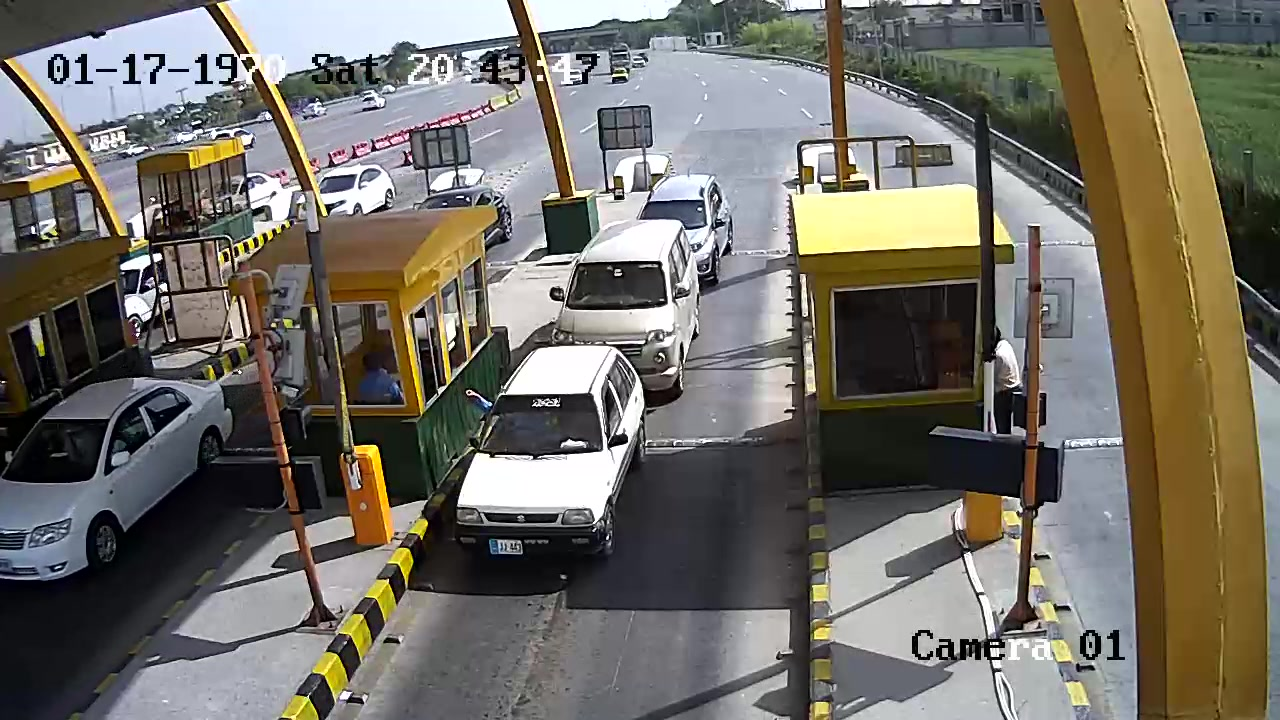F1: (449, 340, 652, 568)
